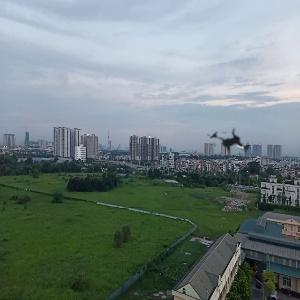drone: (191, 106, 270, 185)
